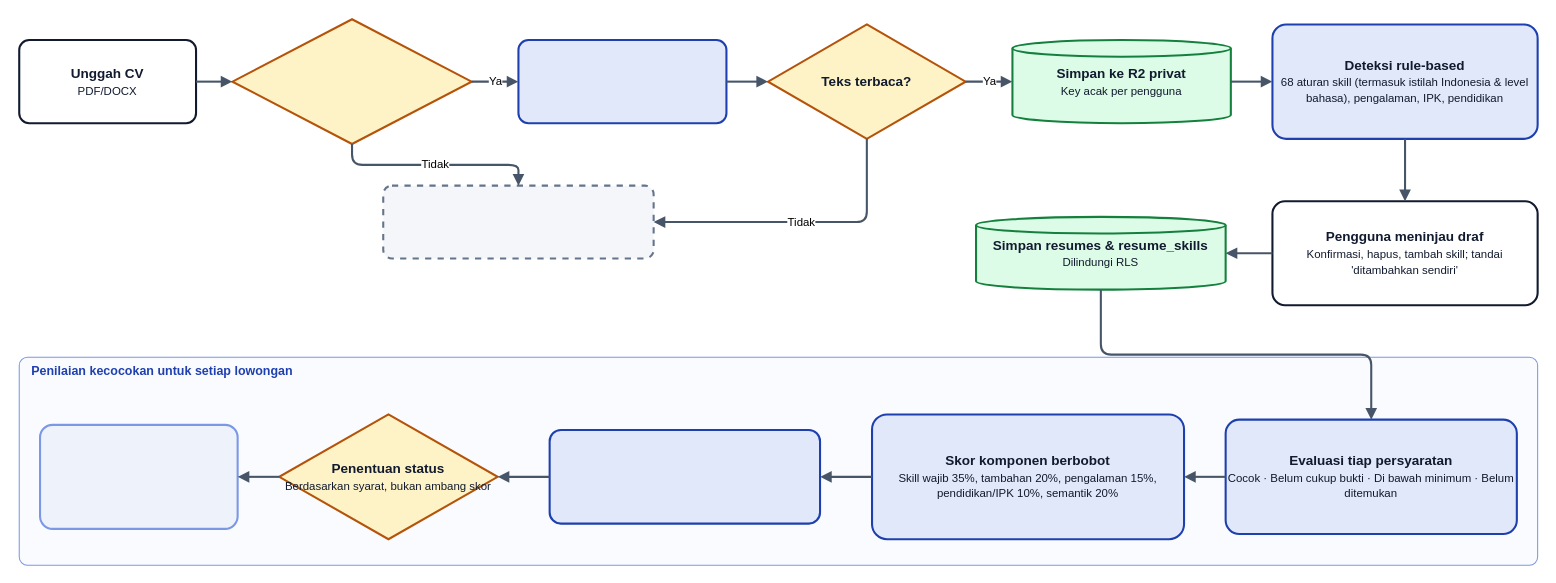
Some shapes in this 1556 by 583 pixel diagram are drawn without their labels. The shapes that lost their labels are listed below. From the top down, each one's box as (x1, y1, x2, y2) in pixels, then its label:
(231, 18, 472, 145): Lolos validasi? ≤4 MB, jenis & isi file, ≤10 hlm
(517, 38, 727, 124): Ekstraksi teks unpdf (PDF) · mammoth (DOCX)
(382, 184, 654, 259): Pesan galat yang jelas Pengguna diminta memperbaiki berkas
(38, 423, 238, 529): Hasil di UI Skor, status, faktor pendukung & pembatas, bukti
(548, 428, 821, 524): Redistribusi bobot Komponen tanpa data tidak dihitung nol
